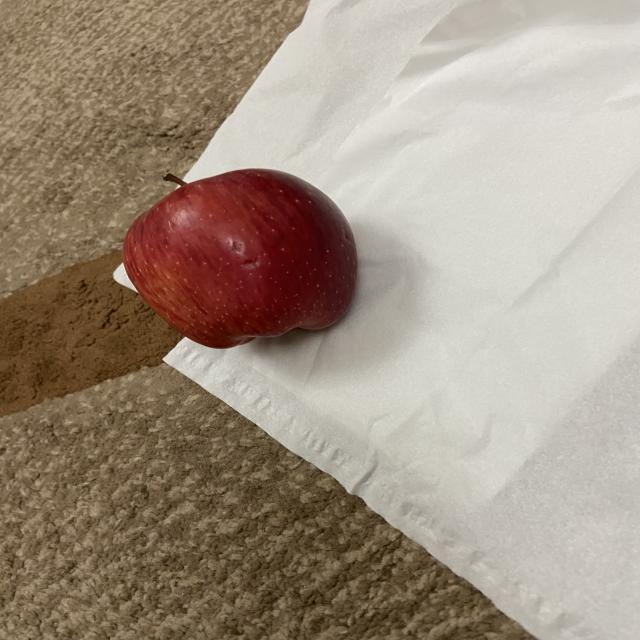apple: (121, 162, 366, 352)
